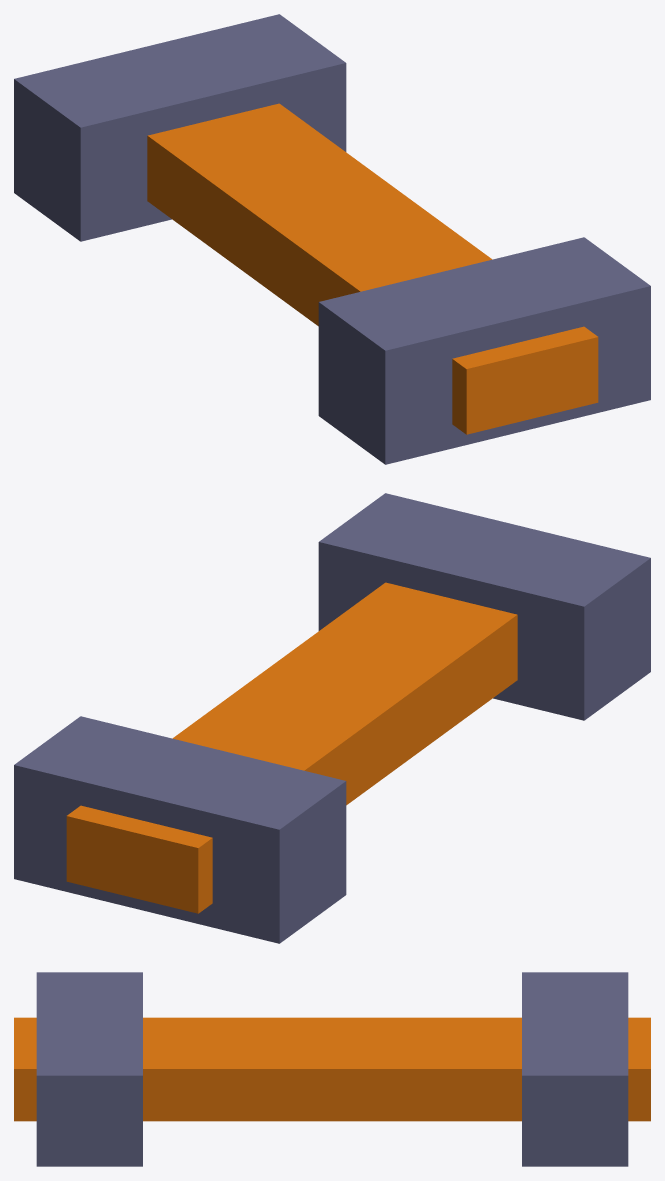
The model's file is Track_OneTile.fbx.
3 renders of one model, top to bottom at view 1: azimuth 30°, elevation 25°; view 2: azimuth 150°, elevation 25°; view 3: azimuth 270°, elevation 25°, orthographic. The views are drawn at different scales.
Parts seen in each view (by area): view 1: Track_OneTile; view 2: Track_OneTile; view 3: Track_OneTile.
Part boxes in pixels (box(x1,y1,x2,y2)): Track_OneTile: box(14, 14, 650, 464); Track_OneTile: box(14, 493, 650, 943); Track_OneTile: box(14, 972, 650, 1166).
Size of the model in its own units: 1.61 by 4.2 by 0.6609.
